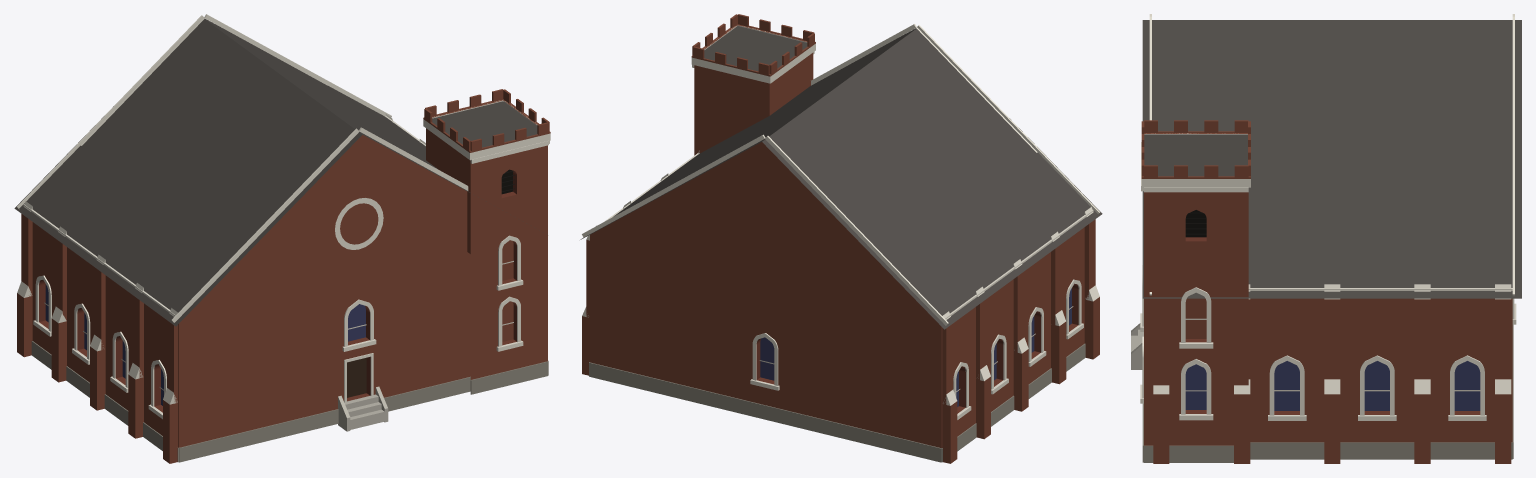
Rendered from ch-central-presbyterian-1961.glb.
3 views of the same model, side by side, from view 1: azimuth 30°, elevation 25°; view 2: azimuth 150°, elevation 25°; view 3: azimuth 270°, elevation 25° (orthographic). The views are drawn at different scales.
Visible parts, largest first — view 1: ch_brick, ch_roof, ch_trim, ch_base, ch_roof2, ch_brick2, ch_conc, ch_stain, ch_door; view 2: ch_brick, ch_roof, ch_trim, ch_base, ch_roof2, ch_brick2, ch_stain; view 3: ch_roof, ch_brick, ch_trim, ch_base, ch_stain, ch_roof2, ch_brick2, ch_shadow, ch_conc.
Part boxes in pixels (box(x1,y1,x2,y2)): ch_brick: box(17, 89, 550, 463); ch_roof: box(14, 19, 547, 326); ch_trim: box(17, 14, 550, 419); ch_base: box(31, 341, 548, 462); ch_roof2: box(432, 101, 537, 147); ch_brick2: box(39, 171, 516, 412); ch_conc: box(338, 386, 388, 431); ch_stain: box(45, 284, 365, 405); ch_door: box(347, 357, 366, 397); ch_brick: box(582, 14, 1099, 463); ch_roof: box(580, 28, 1102, 329); ch_trim: box(582, 24, 1099, 419); ch_base: box(589, 343, 1085, 462); ch_roof2: box(704, 26, 807, 71); ch_brick2: box(756, 283, 1078, 413); ch_stain: box(760, 288, 1071, 406); ch_roof: box(1142, 20, 1521, 298); ch_brick: box(1141, 120, 1512, 463); ch_trim: box(1140, 14, 1516, 420); ch_base: box(1142, 324, 1513, 462); ch_stain: box(1185, 361, 1480, 410); ch_roof2: box(1144, 134, 1247, 176); ch_brick2: box(1185, 237, 1480, 414); ch_shadow: box(1185, 210, 1206, 237); ch_conc: box(1131, 323, 1143, 369).
Size of the model in its own units: 21.96 by 16.28 by 16.81.
